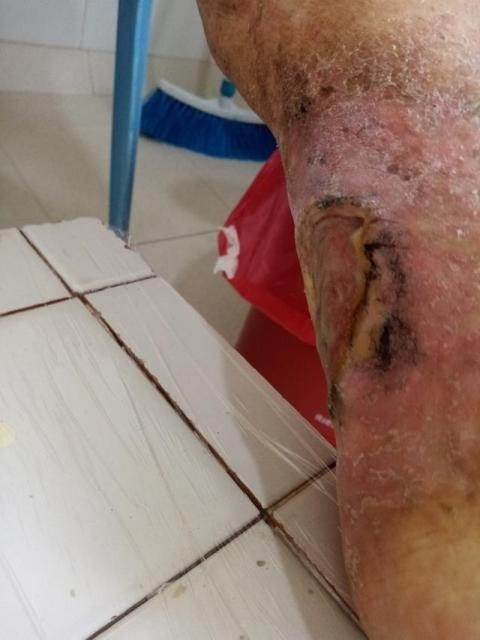wound: (296, 193, 382, 415)
